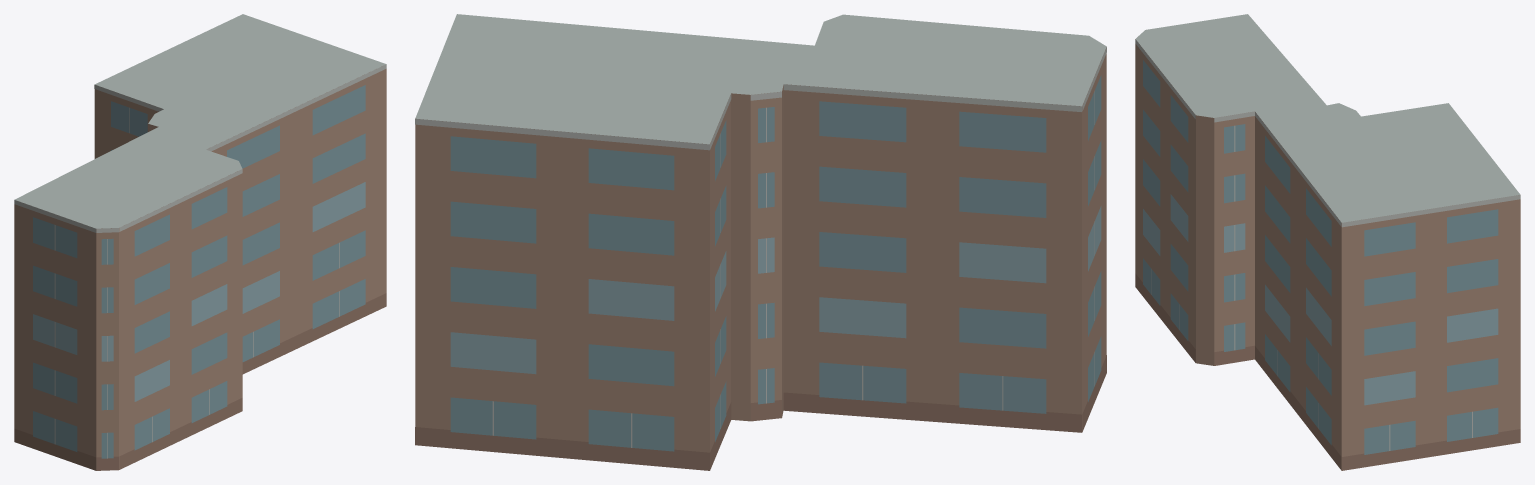
Rendered from survey-upis-32827641.glb.
3 renders of one model, left to right at view 1: azimuth 30°, elevation 25°; view 2: azimuth 150°, elevation 25°; view 3: azimuth 270°, elevation 25°, orthographic. The views are drawn at different scales.
Parts seen in each view (by area): view 1: survey-upis-32827641.tmp; view 2: survey-upis-32827641.tmp; view 3: survey-upis-32827641.tmp.
Part boxes in pixels (<box>): survey-upis-32827641.tmp: <box>14,14,386,470</box>; survey-upis-32827641.tmp: <box>415,14,1106,470</box>; survey-upis-32827641.tmp: <box>1135,14,1520,470</box>.
Size of the model in its own units: 24.3 by 13.45 by 18.94.
